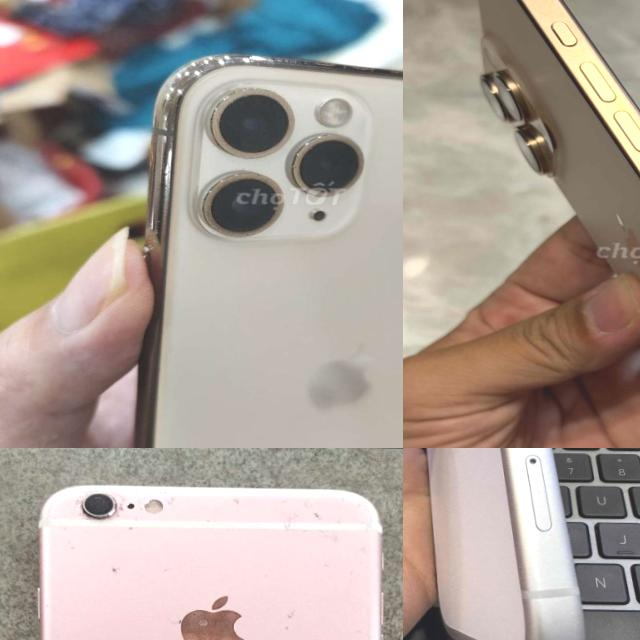scratch: (159, 48, 403, 221), (52, 481, 375, 536), (159, 588, 250, 640), (281, 582, 308, 640), (95, 554, 128, 590)
